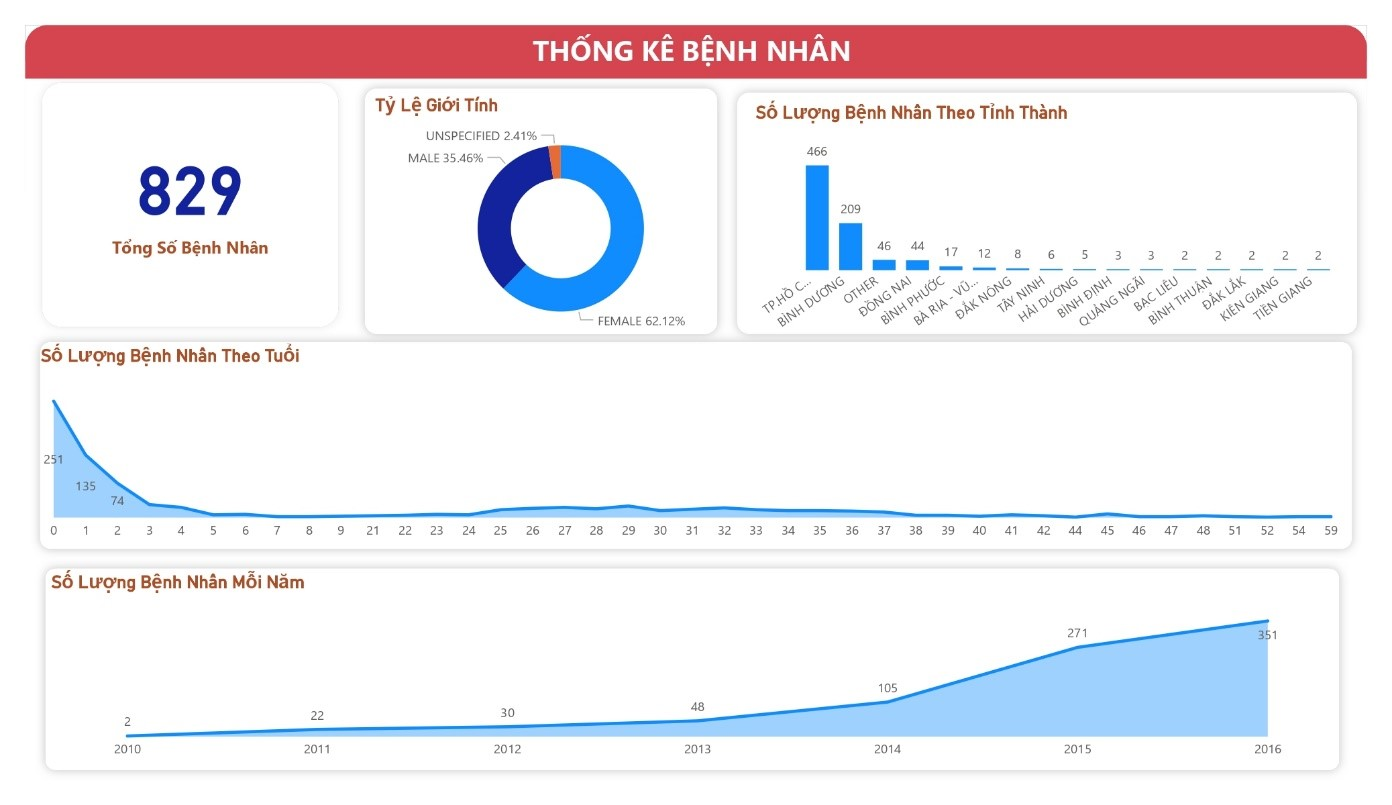

The page's visual inventory and layout, read from the dashboard file:
{"tool":"powerbi","page":{"name":"Patient_Dashboard","canvas":[1280,720],"ordinal":1},"visuals":[{"type":"shape","box":[10.5,509.5,1252.8,210.3],"z":0},{"type":"cardVisual","fields":{"Data":["CountNonNull(DimPatient.Patient_ID)"]},"box":[0,39.2,314.8,265.2],"z":1000},{"type":"shape","box":[0,0,1280.3,50.9],"z":2000},{"type":"textbox","box":[479.4,0,360.6,57.5],"z":3000},{"type":"shape","box":[670.2,54.9,610.1,249.5],"z":4000},{"type":"shape","box":[314.8,50.9,355.3,253.4],"z":5000,"group":"g1"},{"type":"shape","box":[5.2,292.6,1269.8,216.9],"z":5000},{"type":"donutChart","title":"Tỷ Lệ Giới Tính","fields":{"Category":["DimPatient.Patient_sex"],"Y":["CountNonNull(DimPatient.Patient_ID)"]},"box":[329.2,65.3,363.2,239],"z":6000,"group":"g1"},{"type":"columnChart","title":"Số Lượng Bệnh Nhân Theo Tỉnh Thành","fields":{"Category":["DimPatient.Patient_province"],"Y":["CountNonNull(DimPatient.Patient_ID)"]},"box":[692.4,71.9,570.9,232.5],"z":6000},{"type":"stackedAreaChart","title":"Số Lượng Bệnh Nhân Theo Tuổi","fields":{"Category":["DimPatient.Patient_age"],"Y":["CountNonNull(DimPatient.Patient_ID)"]},"box":[10.5,304.4,1252.8,196],"z":7000},{"type":"group","id":"g1","title":"Group 1","box":[314.8,50.9,377.5,253.4],"z":8000},{"type":"areaChart","title":"Số Lượng Bệnh Nhân Mỗi Năm","fields":{"Category":["DimPatient.Patient_creation_date.Variation.Date Hierarchy.Year"],"Y":["CountNonNull(DimPatient.Patient_ID)"]},"box":[19.6,519.9,1243.7,189.4],"z":9000}]}

Visuals, with their boxes in screenshot pixels (x1, y1, x2, y2), scaled from the page's 1280x720 canvas onto the 1392x805 screenshot:
shape: [left=11, top=570, right=1374, bottom=804]
cardVisual - CountNonNull(DimPatient.Patient_ID): [left=0, top=44, right=342, bottom=340]
shape: [left=0, top=0, right=1391, bottom=57]
textbox: [left=521, top=0, right=913, bottom=64]
shape: [left=729, top=61, right=1391, bottom=340]
shape: [left=342, top=57, right=729, bottom=340]
shape: [left=6, top=327, right=1387, bottom=570]
"Tỷ Lệ Giới Tính" donutChart: [left=358, top=73, right=753, bottom=340]
"Số Lượng Bệnh Nhân Theo Tỉnh Thành" columnChart: [left=753, top=80, right=1374, bottom=340]
"Số Lượng Bệnh Nhân Theo Tuổi" stackedAreaChart: [left=11, top=340, right=1374, bottom=559]
"Group 1" group: [left=342, top=57, right=753, bottom=340]
"Số Lượng Bệnh Nhân Mỗi Năm" areaChart: [left=21, top=581, right=1374, bottom=793]
